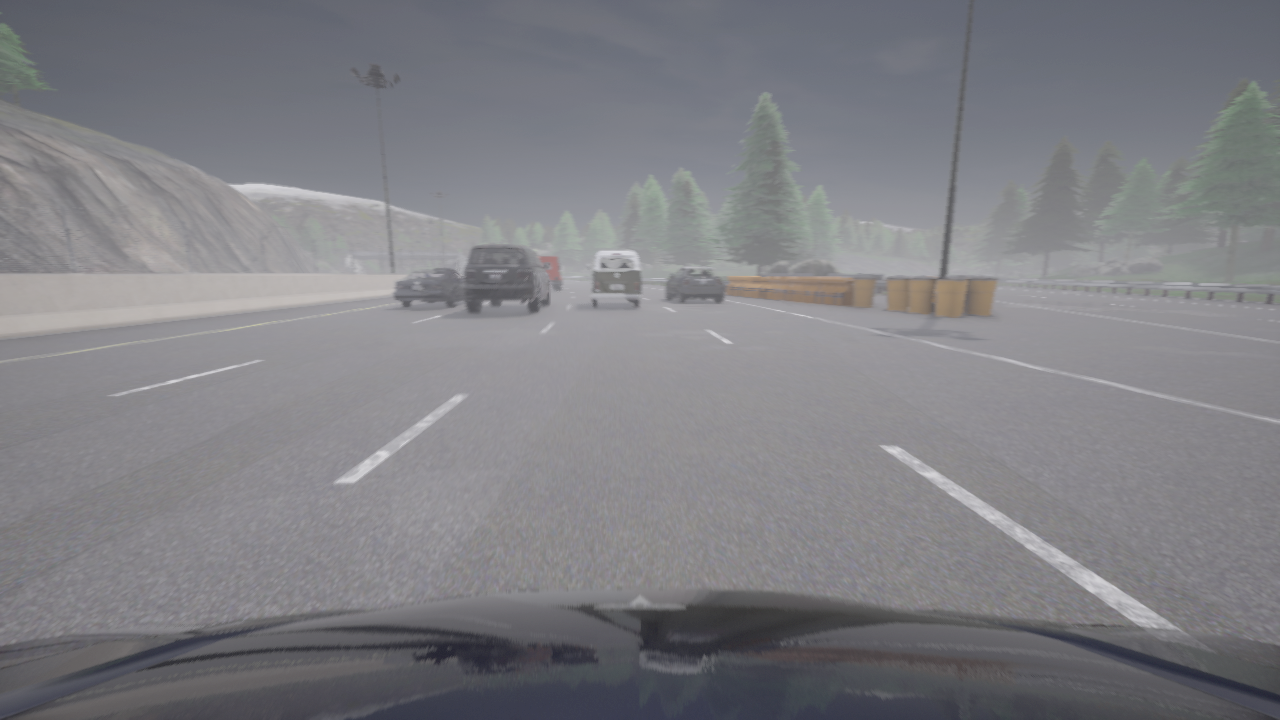cyclist: (0, 588, 1279, 719), (463, 245, 549, 313), (587, 250, 641, 307), (392, 269, 464, 307), (666, 267, 723, 302), (538, 256, 561, 289)
